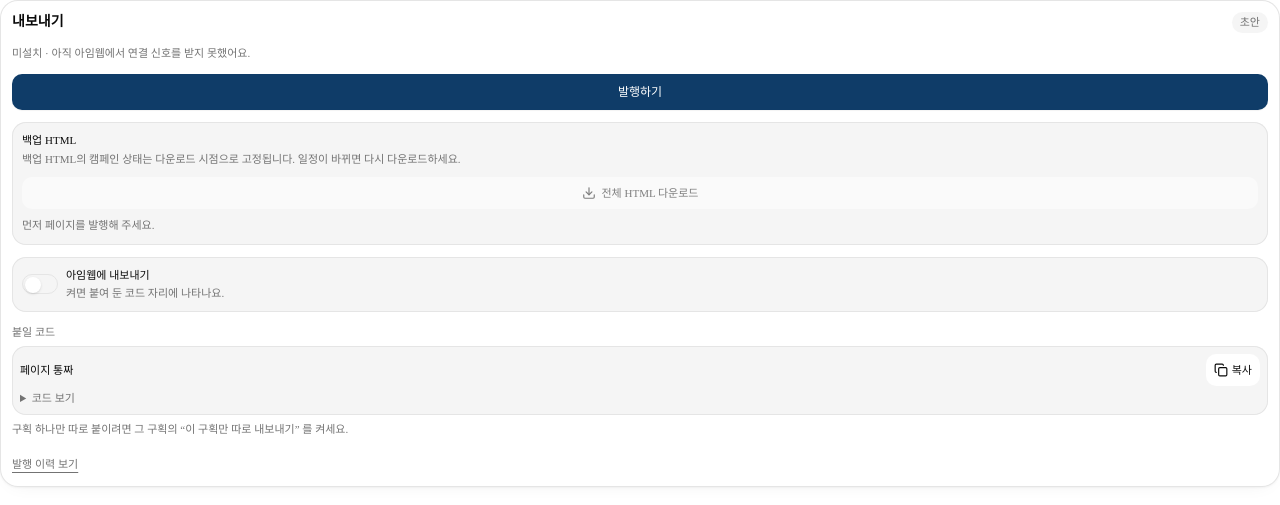
Test: 붙일 코드 › 복사하면 코드가 클립보드로 간다
Click the button with aria-label "페이지 통짜 코드 복사" at (1233, 370), box 1206,354 -> 1260,386
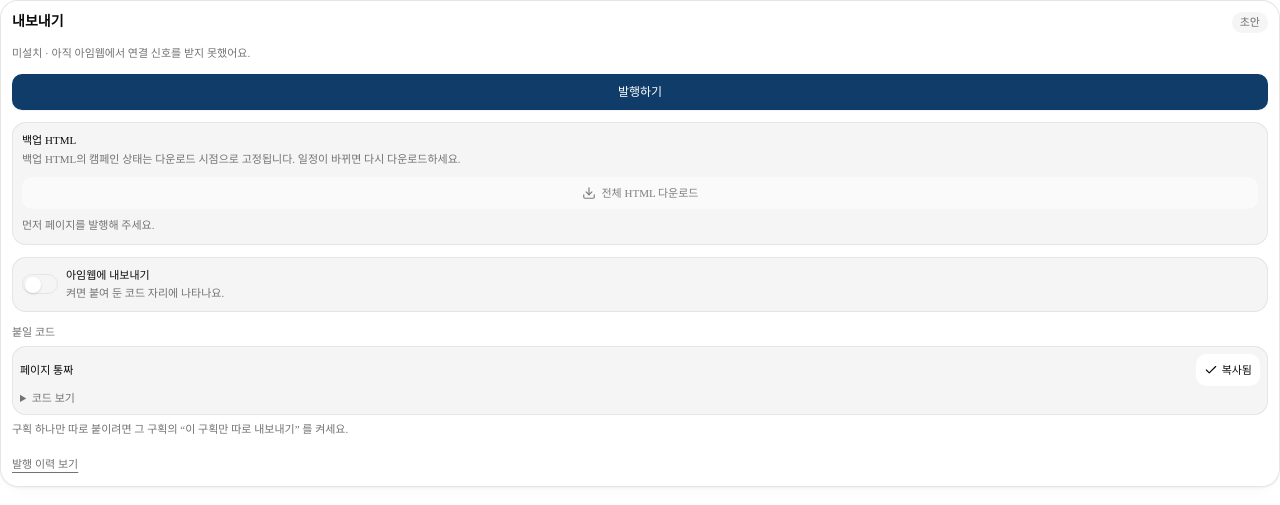
expect the text "복사됨" is shown: met, box 1196,354 -> 1260,386
